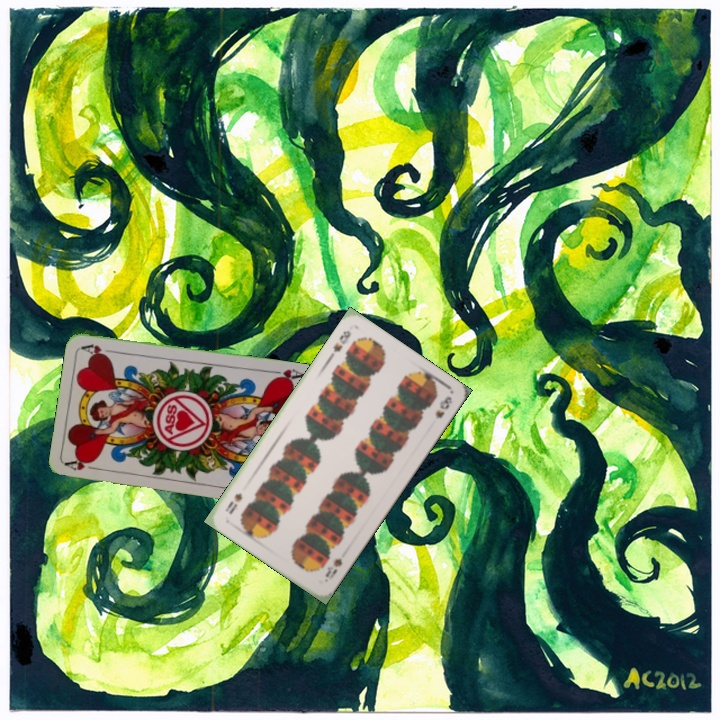HA: (267, 365, 307, 385), (63, 455, 103, 473)
S8: (329, 326, 353, 355), (321, 554, 345, 582)
